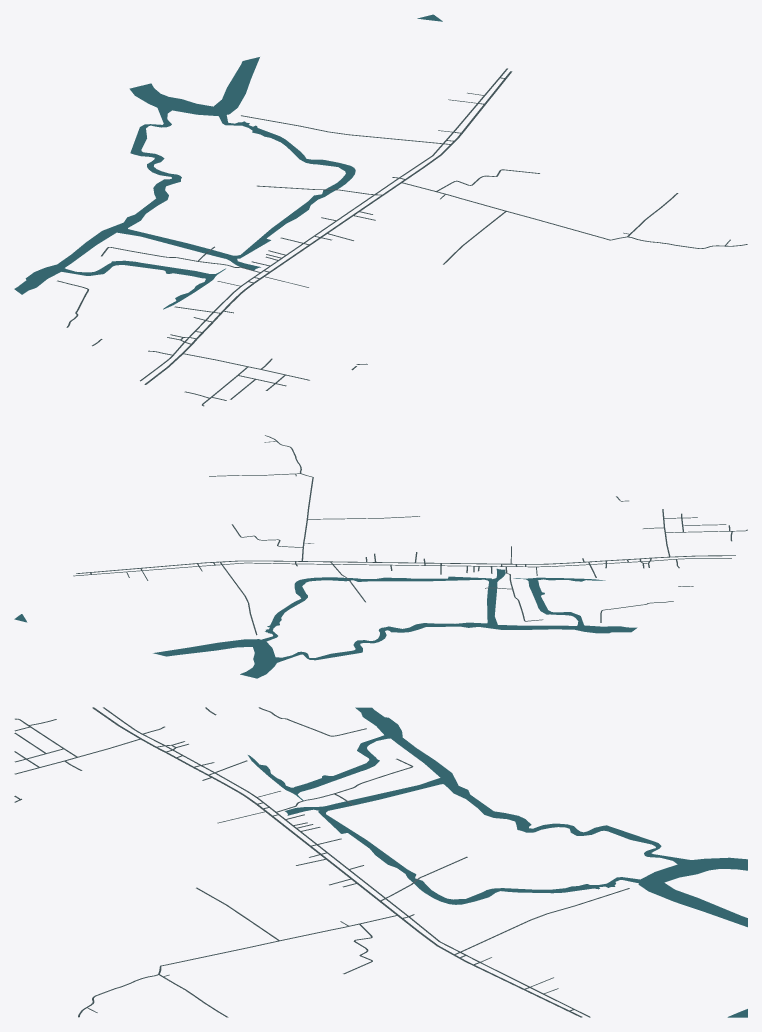
3 views of the same model, one above another, from view 1: azimuth 30°, elevation 25°; view 2: azimuth 150°, elevation 25°; view 3: azimuth 270°, elevation 25° (orthographic). The views are drawn at different scales.
Visible parts, largest first — view 1: water, street; view 2: water, street; view 3: water, street.
Boxes of the visible parts, x1=… form: water: x1=14, y1=14, x2=442, y2=309; street: x1=57, y1=68, x2=747, y2=406; water: x1=14, y1=568, x2=637, y2=678; street: x1=73, y1=435, x2=747, y2=635; water: x1=248, y1=707, x2=747, y2=1017; street: x1=14, y1=707, x2=629, y2=1017.
Size of the model in its own units: 2004 by 6.42 by 2002.
